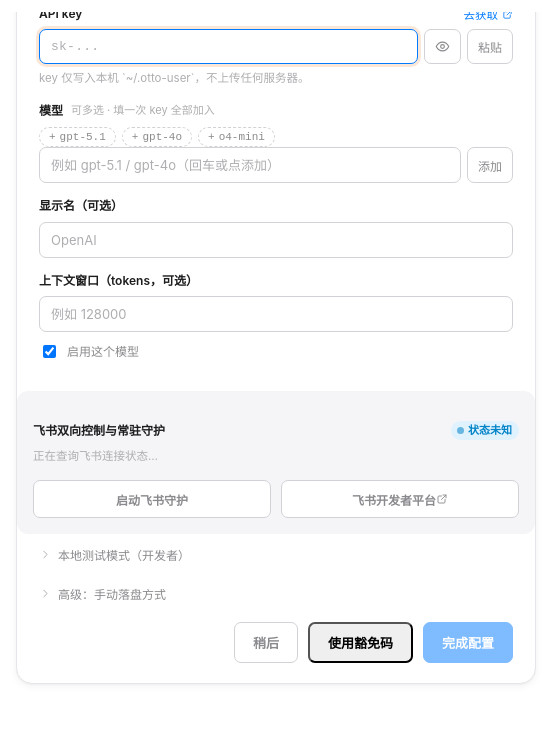
SetupPanel 复制路径 › 复制按钮旁展示占位符提示
The image size is (553, 732).
(page scrolled)
# 展开高级块后才显示复制路径及其占位符提示。
Click the button "高级：手动落盘方式" at coordinates (104, 593), box [35,581,172,606]
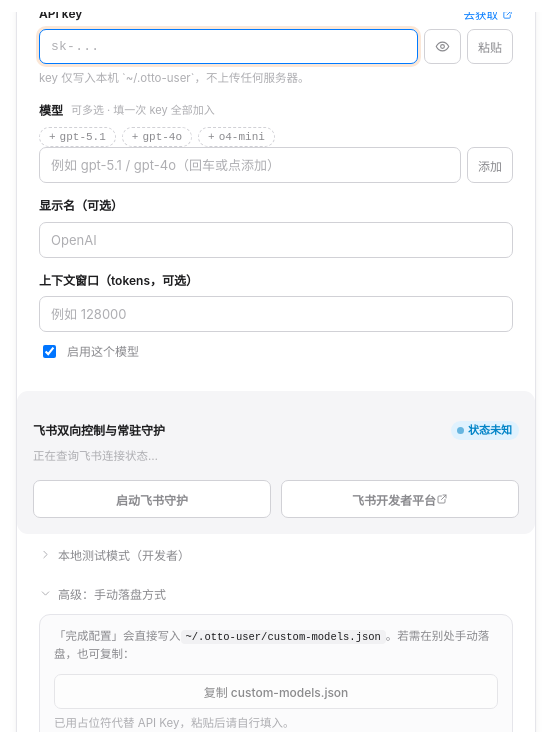
Now the text "已用占位符代替 API Key，粘贴后请自行填入。" is shown, box [54,716,295,730]
